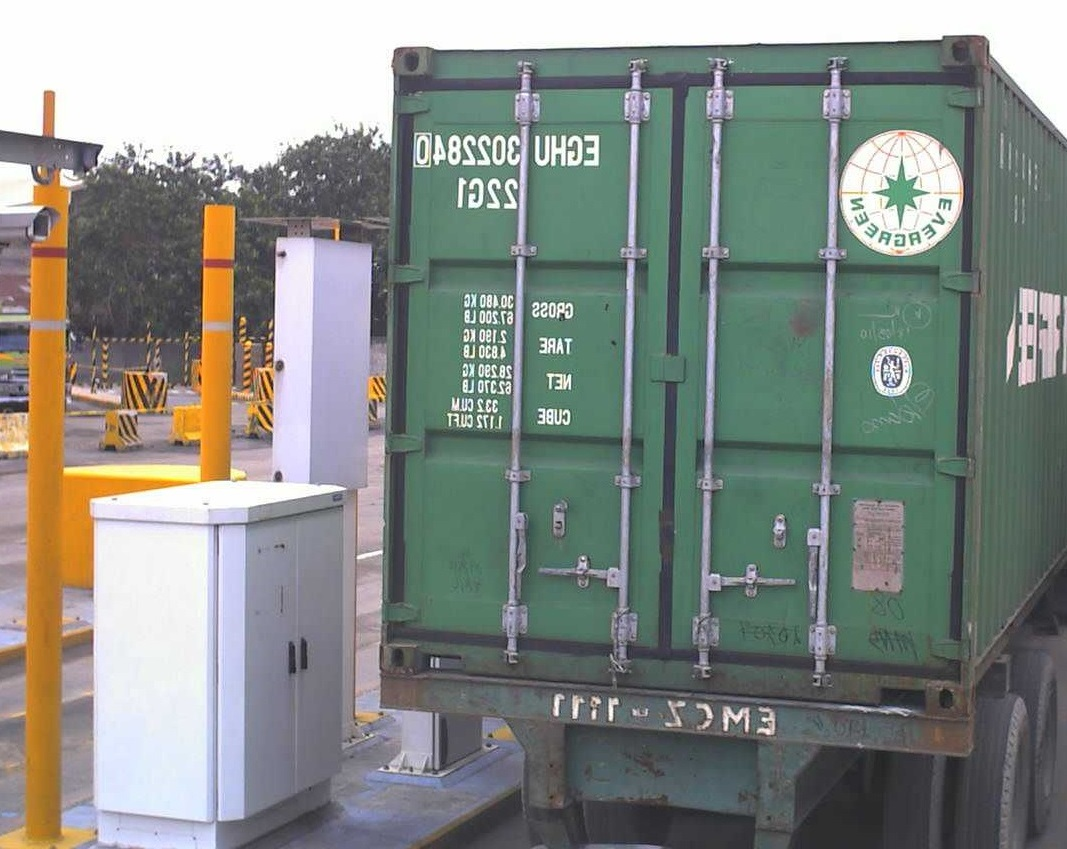container_door: (390, 42, 976, 715)
